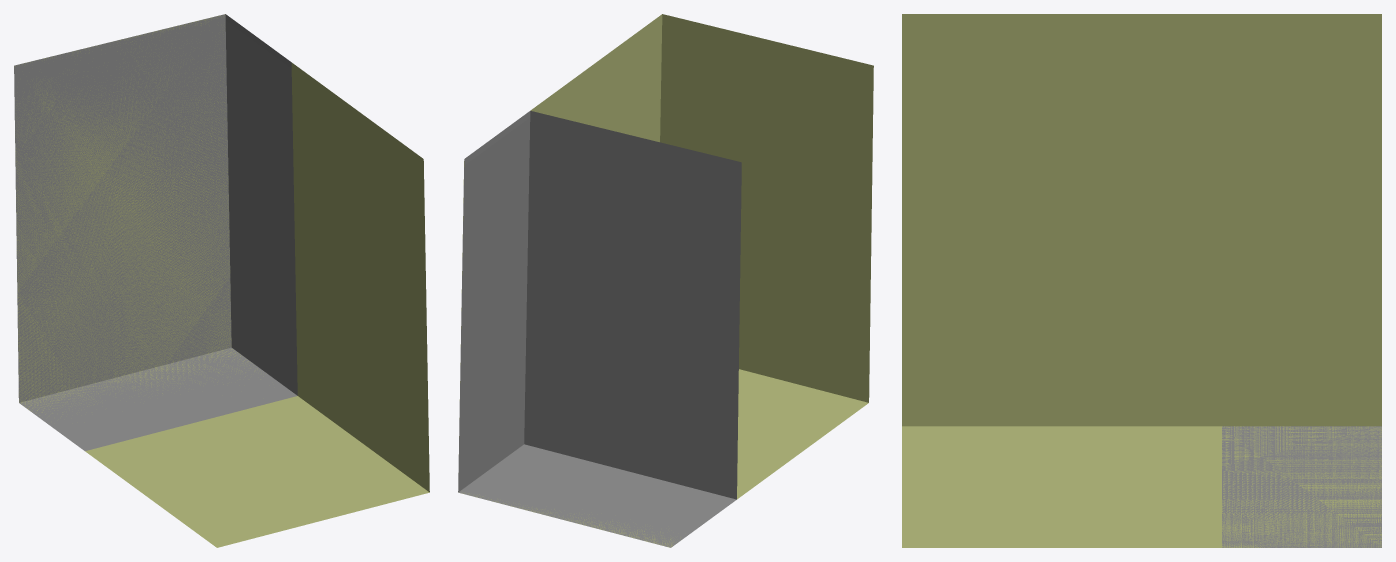
3 renders of one model, left to right at view 1: azimuth 30°, elevation 25°; view 2: azimuth 150°, elevation 25°; view 3: azimuth 270°, elevation 25°, orthographic. The views are drawn at different scales.
Parts seen in each view (by area): view 1: 0_1_2_0_3_3_1_1_0_0; view 2: 0_1_2_0_3_3_1_1_0_0; view 3: 0_1_2_0_3_3_1_1_0_0.
Part boxes in pixels (x1,y1,x2,y2): 0_1_2_0_3_3_1_1_0_0: [14, 14, 429, 547]; 0_1_2_0_3_3_1_1_0_0: [458, 14, 873, 547]; 0_1_2_0_3_3_1_1_0_0: [902, 14, 1381, 547].
Size of the model in its own units: 5.7 by 8.48 by 9.
